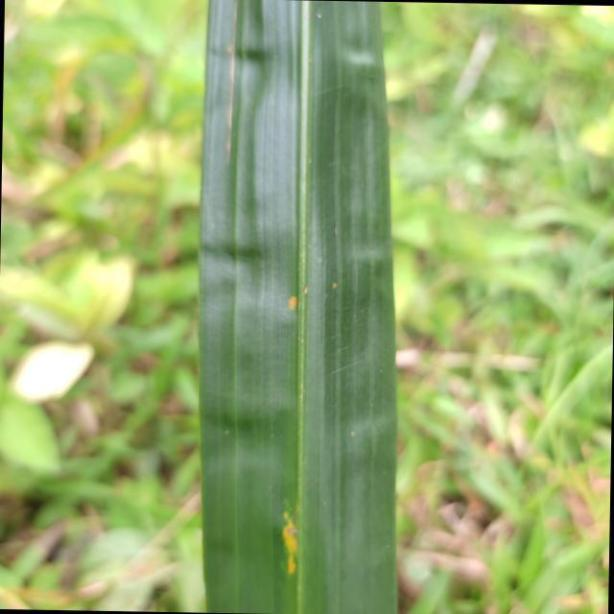Boron: (193, 0, 395, 614)
